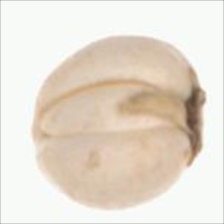L5: (35, 76, 186, 141), (186, 56, 208, 170)
L6: (29, 34, 208, 213)
